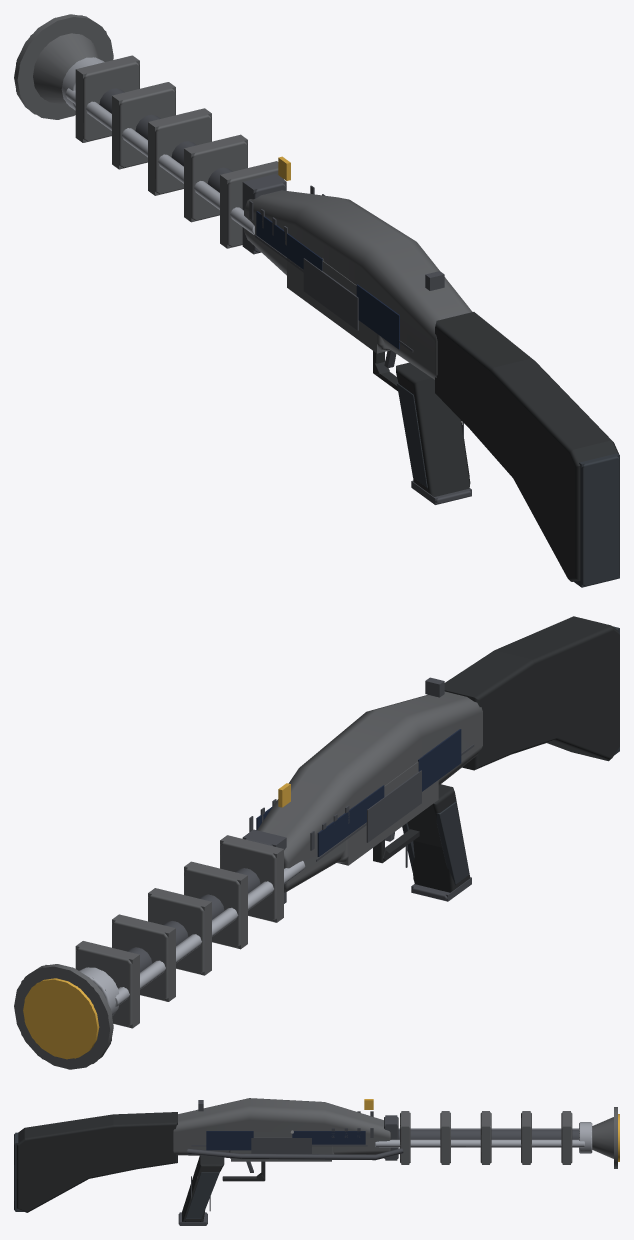
The model's file is x_repulse.glb.
The picture shows the model from 3 angles, top to bottom: view 1: azimuth 30°, elevation 25°; view 2: azimuth 150°, elevation 25°; view 3: azimuth 270°, elevation 25°; orthographic projection. The views are drawn at different scales.
Visible parts, largest first — view 1: L0, L1; view 2: L0, L1; view 3: L0, L1.
Boxes of the visible parts, left/top/right/bottom form: L0: left=14, top=14, right=619, bottom=586; L1: left=16, top=15, right=619, bottom=587; L0: left=14, top=616, right=619, bottom=1069; L1: left=14, top=626, right=619, bottom=1069; L0: left=14, top=1098, right=619, bottom=1224; L1: left=15, top=1108, right=619, bottom=1225.
Size of the model in its own units: 0.0924 by 0.1989 by 0.9008.
